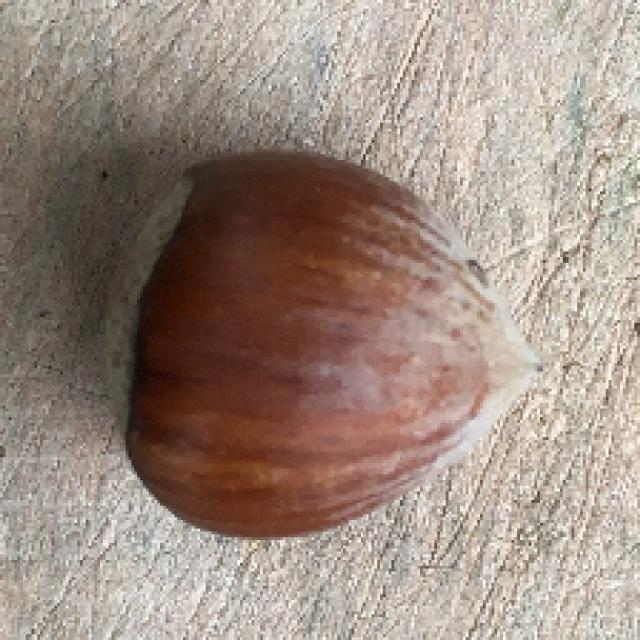hazelnut: (102, 145, 549, 540)
